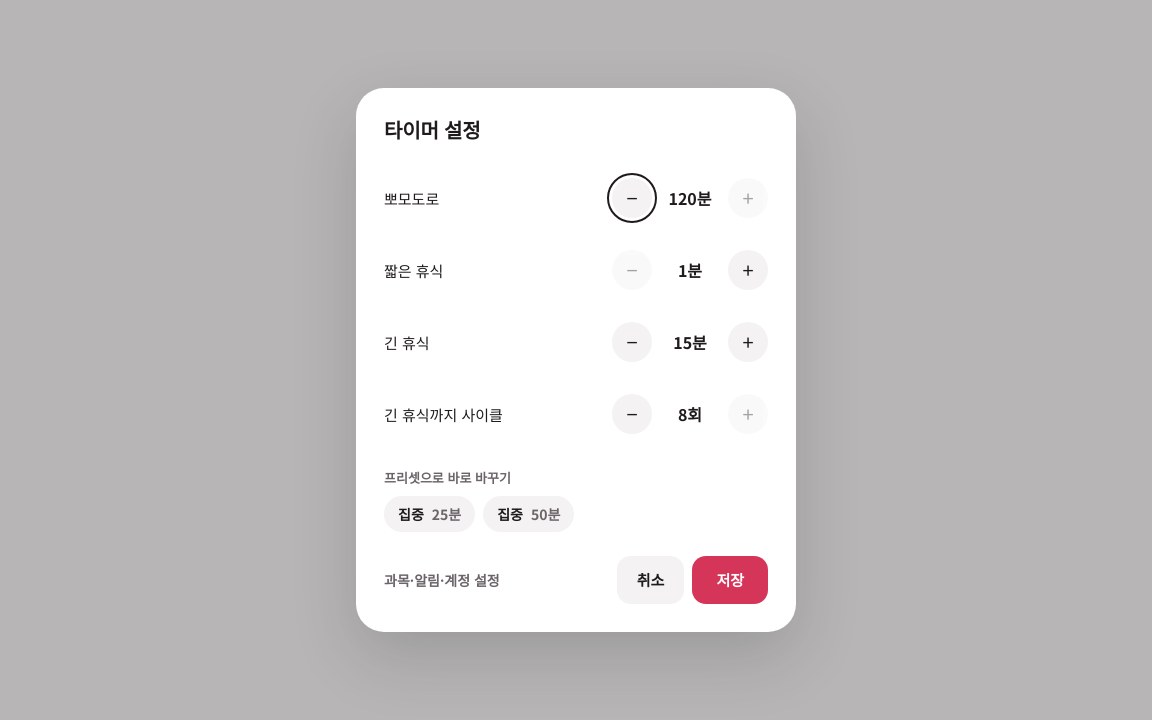
TimerSettingsDialog › stops at the board bounds but never shortens a longer existing value
expect the button named "짧은 휴식 줄이기" is disabled: met, box [612, 250, 652, 290]
expect the button named "긴 휴식까지 사이클 늘리기" is disabled: met, box [728, 394, 768, 434]
Click the button named "뽀모도로 줄이기" at (632, 198), box [612, 178, 652, 218]
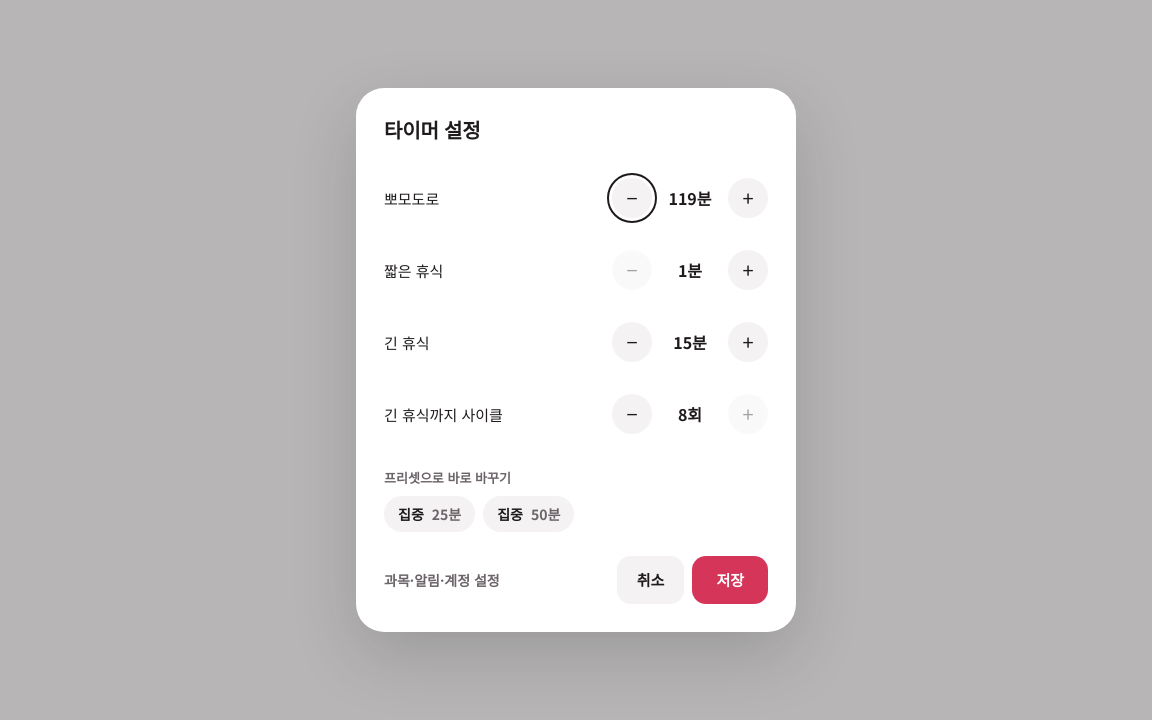
expect the element "뽀모도로" shows "119분": met, box [384, 178, 768, 218]
